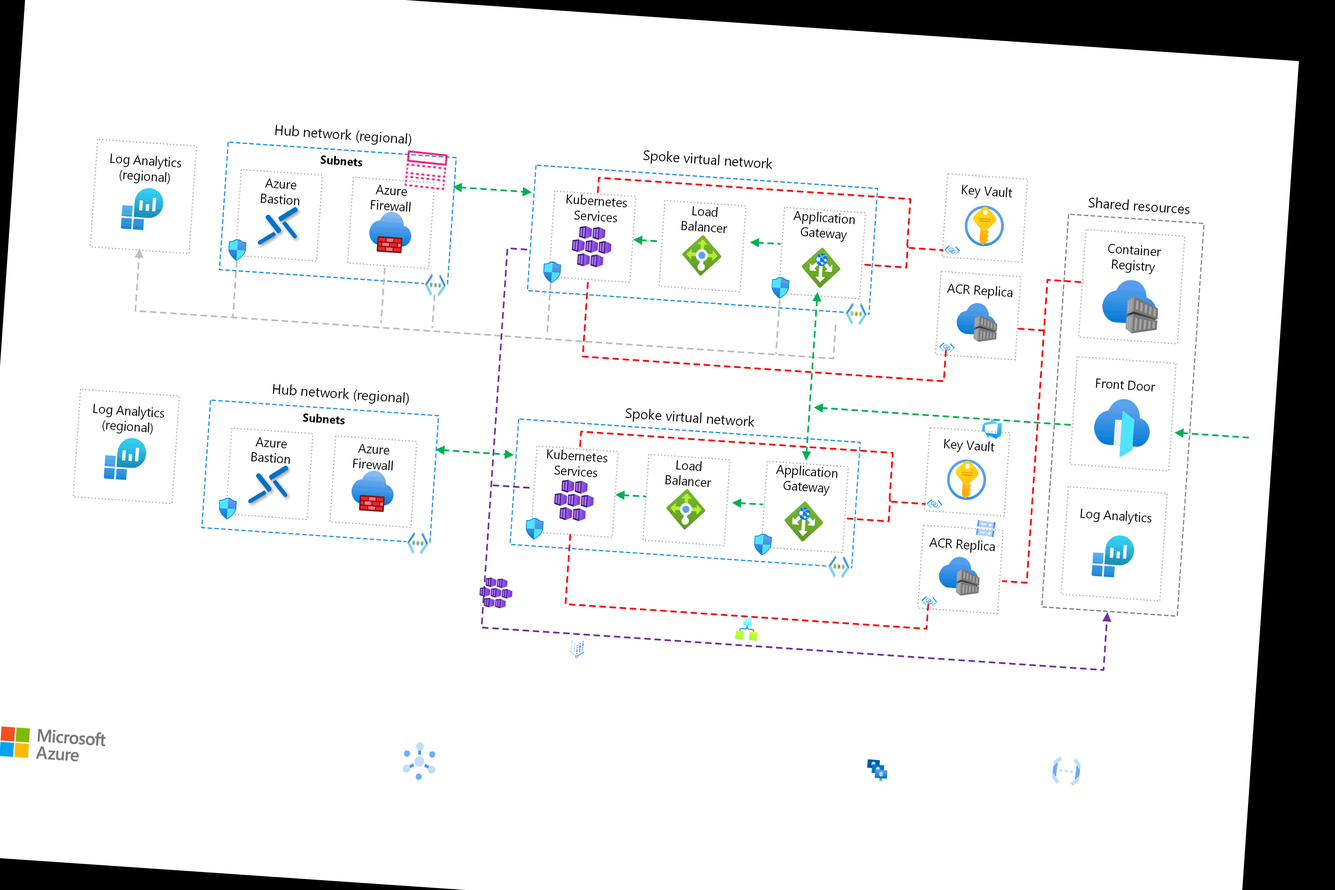aws_simple_notification_service_topic: (402, 145, 450, 195)
azure_devops: (980, 416, 1004, 441)
azure_kubernetes_services: (478, 574, 514, 611)
azure_logic_apps: (735, 616, 759, 641)
azure_vm_scale_sets: (865, 758, 889, 782)
gcp_cloud_functions: (1047, 751, 1085, 790)
gcp_cloud_storage: (973, 515, 998, 542)
gcp_pubsub: (395, 736, 443, 786)
gcp_vertex_ai: (565, 637, 589, 662)
